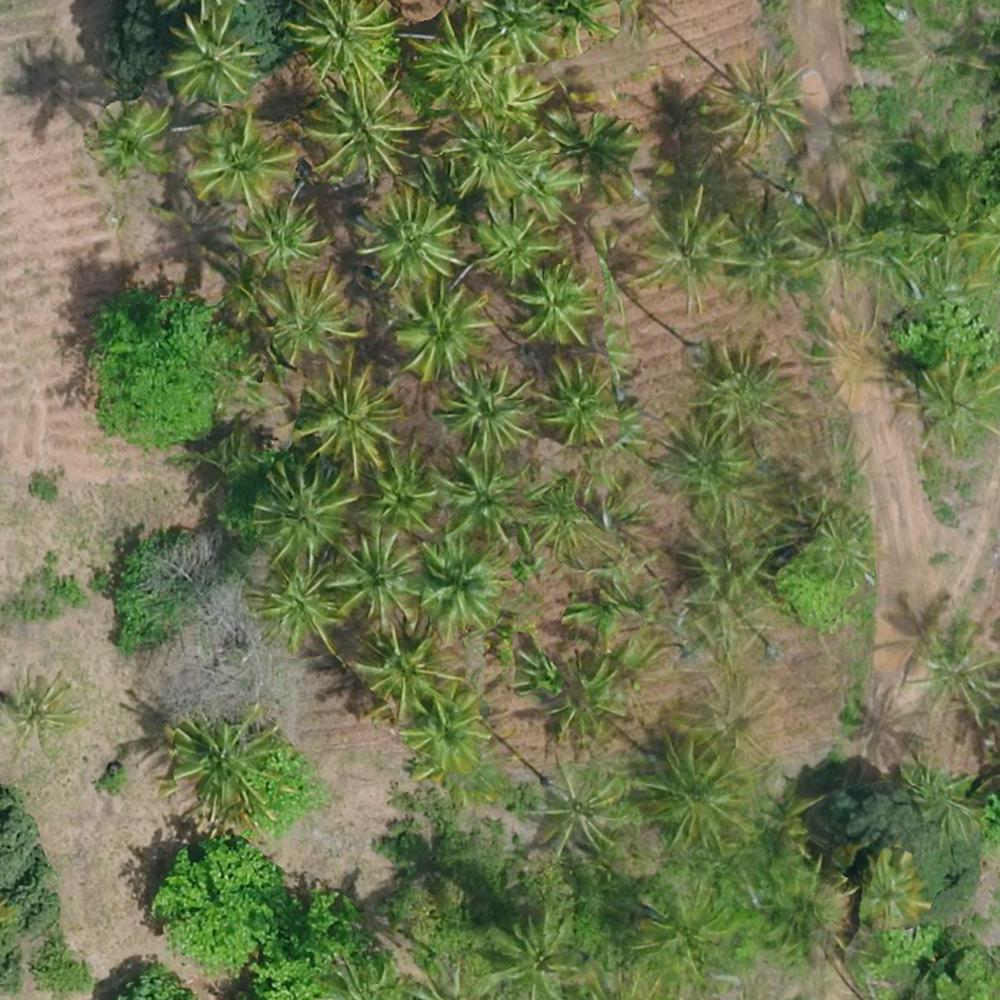Palm: (307, 81, 415, 182), (407, 14, 511, 113), (171, 717, 277, 812), (298, 369, 398, 469), (324, 529, 425, 625), (532, 354, 631, 451), (196, 111, 294, 208), (388, 281, 488, 376), (696, 347, 796, 442), (250, 462, 345, 559), (441, 110, 543, 198), (355, 195, 455, 282), (259, 282, 361, 367), (438, 451, 530, 545), (662, 422, 763, 507), (164, 12, 255, 105), (713, 63, 808, 152), (636, 199, 724, 294), (295, 2, 395, 83), (355, 635, 449, 721), (447, 365, 535, 456), (526, 764, 619, 850), (417, 531, 499, 627), (545, 110, 638, 193), (504, 260, 592, 347), (538, 652, 631, 734), (247, 561, 335, 646), (403, 688, 495, 765), (485, 918, 574, 996), (468, 200, 558, 275), (358, 450, 434, 536), (240, 203, 324, 274), (90, 104, 168, 176), (860, 851, 929, 923)
